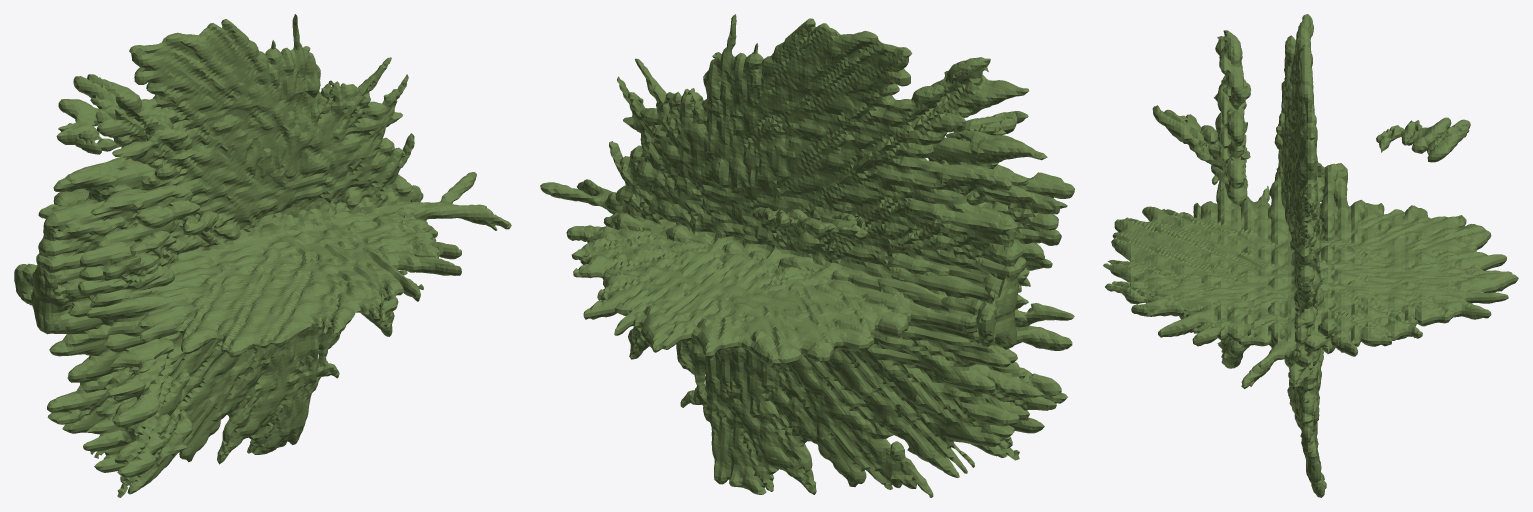
Rendered from raw.glb.
3 views of the same model, side by side, from view 1: azimuth 30°, elevation 25°; view 2: azimuth 150°, elevation 25°; view 3: azimuth 270°, elevation 25° (orthographic). The views are drawn at different scales.
Parts seen in each view (by area): view 1: world; view 2: world; view 3: world.
Part boxes in pixels (x1=…): world: x1=14, y1=14, x2=511, y2=497; world: x1=540, y1=14, x2=1074, y2=497; world: x1=1103, y1=14, x2=1518, y2=497.
Size of the model in its own units: 0.6 by 0.5813 by 0.5282.
